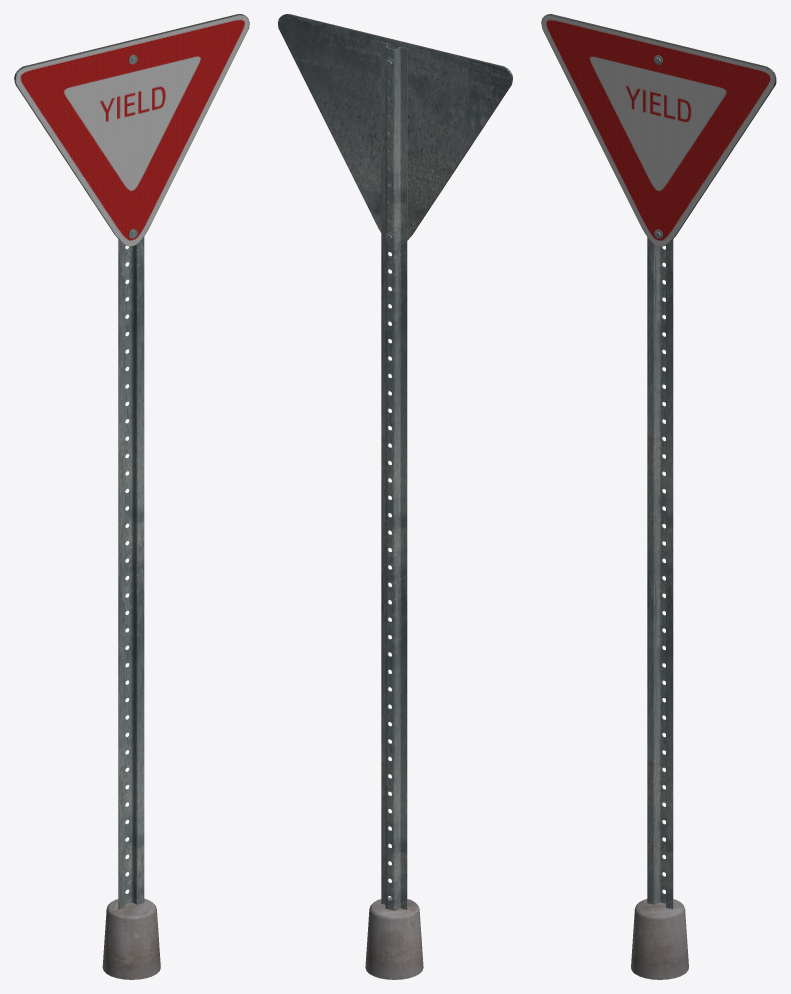
Rendered from yieldsign_nsoc.obj.
3 views of the same model, side by side, from view 1: azimuth 30°, elevation 25°; view 2: azimuth 150°, elevation 25°; view 3: azimuth 330°, elevation 25° (orthographic).
Parts seen in each view (by area): view 1: sign_yeild; view 2: sign_yeild; view 3: sign_yeild.
Part boxes in pixels (x1,y1,x2,y2): sign_yeild: [14, 14, 249, 979]; sign_yeild: [278, 14, 512, 979]; sign_yeild: [541, 14, 776, 979].
Size of the model in its own units: 27.12 by 103 by 5.84.
Materials: 3 (3 with a texture image).
